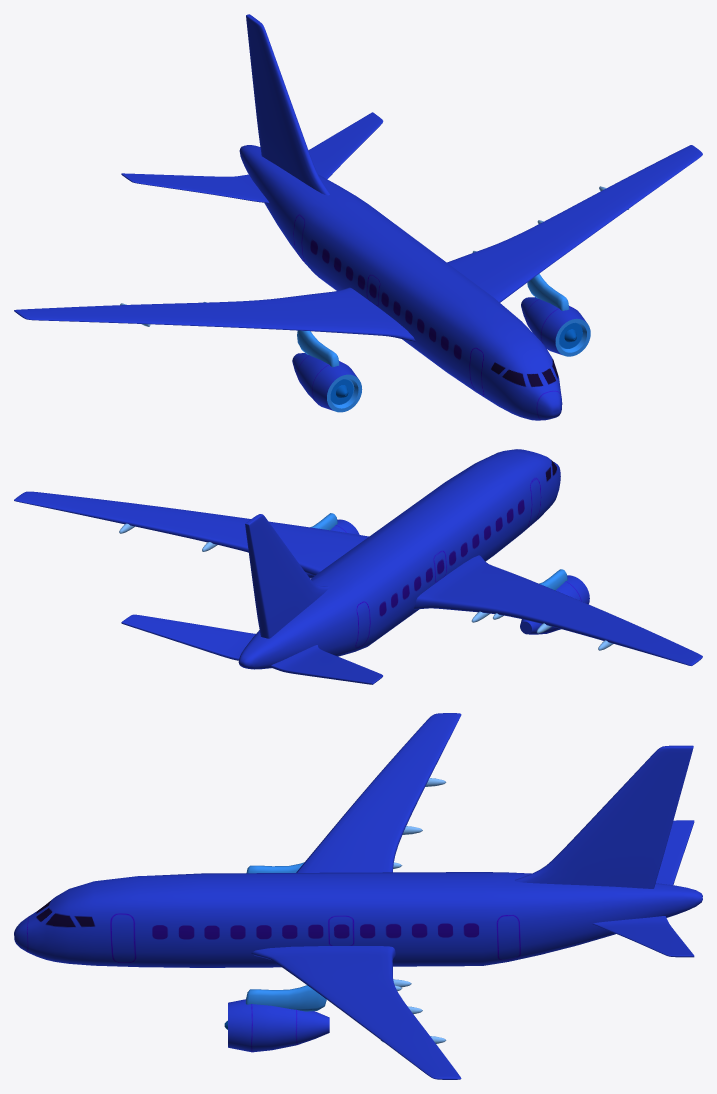
File: airbus318_blue.glb
The picture shows the model from 3 angles, top to bottom: view 1: azimuth 30°, elevation 25°; view 2: azimuth 150°, elevation 25°; view 3: azimuth 270°, elevation 25°; orthographic projection. The views are drawn at different scales.
Visible parts, largest first — view 1: airbus318, wings, wing-back-vertical, turbine, wings-back-horizontal, turbine-pad; view 2: airbus318, wings, wing-back-vertical, wings-back-horizontal, turbine, turbine-pad; view 3: airbus318, wings, wing-back-vertical, turbine, wings-back-horizontal, turbine-pad.
Boxes of the visible parts, <box> form: airbus318: <box>239,145,562,420</box>; wings: <box>14,145,702,341</box>; wing-back-vertical: <box>246,14,329,195</box>; turbine: <box>292,297,590,412</box>; wings-back-horizontal: <box>121,112,383,203</box>; turbine-pad: <box>297,273,569,367</box>; airbus318: <box>238,449,560,669</box>; wings: <box>14,491,702,665</box>; wing-back-vertical: <box>245,514,329,638</box>; wings-back-horizontal: <box>121,614,382,684</box>; turbine: <box>306,519,589,634</box>; turbine-pad: <box>310,513,567,590</box>; airbus318: <box>14,872,702,967</box>; wings: <box>251,713,461,1079</box>; wing-back-vertical: <box>515,745,693,888</box>; turbine: <box>224,999,329,1052</box>; wings-back-horizontal: <box>592,820,694,957</box>; turbine-pad: <box>245,862,326,1011</box>.
Size of the model in its own units: 4.66 by 1.44 by 3.71.
Materials: 1 (1 with a texture image).
